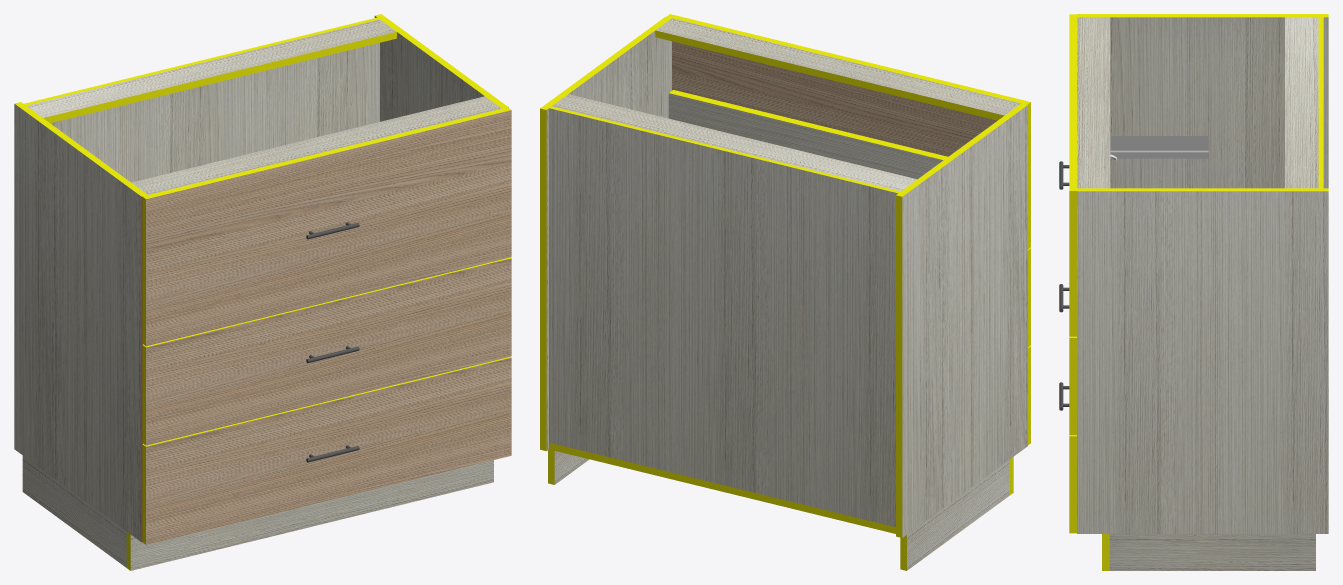
Rendered from GABINETE.obj.
The picture shows the model from 3 angles, left to right: view 1: azimuth 30°, elevation 25°; view 2: azimuth 150°, elevation 25°; view 3: azimuth 270°, elevation 25°; orthographic projection.
Parts seen in each view (by area): view 1: Mesh27 Panel_102_1 PanelZX_49_1 BTapaCaj_Manijas___CA01_1_14_1 c, Mesh1 LATERAL_IZQUIERDA_7_1 P5_7_1 Estructura_7_1 Gabinete_7_1 M, Mesh67 Panel_114_1 PanelZX_55_1 BTapaCaj_Manijas___CA01_1_16_1 c, Mesh47 Panel_108_1 PanelZX_52_1 BTapaCaj_Manijas___CA01_1_15_1 c, Mesh6 RESPALDO_7_1 P4_7_1 Estructura_7_1 Gabinete_7_1 Model, Mesh7 POLLO_FRONTAL_7_1 P9_7_1 Zoclo_7_1 Gabinete_7_1 Model, Mesh5 REFUERZO_TRASERO_5_1 P1_4_1 Estructura_7_1 Gabinete_7_1 Mo, Mesh4 REFUERZO_DELANTERO_4_1 P2_4_1 Estructura_7_1 Gabinete_7_1 , Mesh2 LATERAL_DERECHA_7_1 P6_7_1 Estructura_7_1 Gabinete_7_1 Mod, Mesh8 POLLO_IZQUIERDA_7_1 P8_7_1 Zoclo_7_1 Gabinete_7_1 Model; view 2: Mesh6 RESPALDO_7_1 P4_7_1 Estructura_7_1 Gabinete_7_1 Model, Mesh1 LATERAL_IZQUIERDA_7_1 P5_7_1 Estructura_7_1 Gabinete_7_1 M, Mesh27 Panel_102_1 PanelZX_49_1 BTapaCaj_Manijas___CA01_1_14_1 c, Mesh2 LATERAL_DERECHA_7_1 P6_7_1 Estructura_7_1 Gabinete_7_1 Mod, Mesh4 REFUERZO_DELANTERO_4_1 P2_4_1 Estructura_7_1 Gabinete_7_1 , Mesh28 Panel_105_1 PanelZX_51_1 complete_9_1 COA03___3_CAJONES__, Mesh5 REFUERZO_TRASERO_5_1 P1_4_1 Estructura_7_1 Gabinete_7_1 Mo, Mesh8 POLLO_IZQUIERDA_7_1 P8_7_1 Zoclo_7_1 Gabinete_7_1 Model, Mesh3 BASE_9_1 P3_9_1 Estructura_7_1 Gabinete_7_1 Model, Mesh9 POLLO_DERECHO_7_1 P7_7_1 Zoclo_7_1 Gabinete_7_1 Model; view 3: Mesh2 LATERAL_DERECHA_7_1 P6_7_1 Estructura_7_1 Gabinete_7_1 Mod, Mesh1 LATERAL_IZQUIERDA_7_1 P5_7_1 Estructura_7_1 Gabinete_7_1 M, Mesh9 POLLO_DERECHO_7_1 P7_7_1 Zoclo_7_1 Gabinete_7_1 Model, Mesh5 REFUERZO_TRASERO_5_1 P1_4_1 Estructura_7_1 Gabinete_7_1 Mo, Mesh4 REFUERZO_DELANTERO_4_1 P2_4_1 Estructura_7_1 Gabinete_7_1 , Mesh27 Panel_102_1 PanelZX_49_1 BTapaCaj_Manijas___CA01_1_14_1 c, Mesh17 PartFija1 Corr_OcultaIzq_14_1 Acc_CorrederaOculta___CD001, Mesh6 RESPALDO_7_1 P4_7_1 Estructura_7_1 Gabinete_7_1 Model, Mesh47 Panel_108_1 PanelZX_52_1 BTapaCaj_Manijas___CA01_1_15_1 c, Mesh67 Panel_114_1 PanelZX_55_1 BTapaCaj_Manijas___CA01_1_16_1 c.
Boxes of the visible parts, bbox=[...] form: Mesh27 Panel_102_1 PanelZX_49_1 BTapaCaj_Manijas___CA01_1_14_1 c: bbox=[142, 107, 511, 346]; Mesh1 LATERAL_IZQUIERDA_7_1 P5_7_1 Estructura_7_1 Gabinete_7_1 M: bbox=[14, 102, 147, 542]; Mesh67 Panel_114_1 PanelZX_55_1 BTapaCaj_Manijas___CA01_1_16_1 c: bbox=[142, 356, 511, 544]; Mesh47 Panel_108_1 PanelZX_52_1 BTapaCaj_Manijas___CA01_1_15_1 c: bbox=[142, 257, 511, 445]; Mesh6 RESPALDO_7_1 P4_7_1 Estructura_7_1 Gabinete_7_1 Model: bbox=[23, 17, 381, 182]; Mesh7 POLLO_FRONTAL_7_1 P9_7_1 Zoclo_7_1 Gabinete_7_1 Model: bbox=[126, 460, 493, 570]; Mesh5 REFUERZO_TRASERO_5_1 P1_4_1 Estructura_7_1 Gabinete_7_1 Mo: bbox=[26, 19, 396, 122]; Mesh4 REFUERZO_DELANTERO_4_1 P2_4_1 Estructura_7_1 Gabinete_7_1 : bbox=[131, 96, 501, 194]; Mesh2 LATERAL_DERECHA_7_1 P6_7_1 Estructura_7_1 Gabinete_7_1 Mod: bbox=[374, 14, 508, 121]; Mesh8 POLLO_IZQUIERDA_7_1 P8_7_1 Zoclo_7_1 Gabinete_7_1 Model: bbox=[22, 455, 126, 567]; Mesh6 RESPALDO_7_1 P4_7_1 Estructura_7_1 Gabinete_7_1 Model: bbox=[547, 106, 902, 526]; Mesh1 LATERAL_IZQUIERDA_7_1 P5_7_1 Estructura_7_1 Gabinete_7_1 M: bbox=[896, 103, 1027, 537]; Mesh27 Panel_102_1 PanelZX_49_1 BTapaCaj_Manijas___CA01_1_14_1 c: bbox=[666, 14, 1030, 248]; Mesh2 LATERAL_DERECHA_7_1 P6_7_1 Estructura_7_1 Gabinete_7_1 Mod: bbox=[540, 16, 671, 451]; Mesh4 REFUERZO_DELANTERO_4_1 P2_4_1 Estructura_7_1 Gabinete_7_1 : bbox=[655, 18, 1020, 120]; Mesh28 Panel_105_1 PanelZX_51_1 complete_9_1 COA03___3_CAJONES__: bbox=[668, 90, 947, 179]; Mesh5 REFUERZO_TRASERO_5_1 P1_4_1 Estructura_7_1 Gabinete_7_1 Mo: bbox=[552, 94, 916, 191]; Mesh8 POLLO_IZQUIERDA_7_1 P8_7_1 Zoclo_7_1 Gabinete_7_1 Model: bbox=[900, 460, 1009, 570]; Mesh3 BASE_9_1 P3_9_1 Estructura_7_1 Gabinete_7_1 Model: bbox=[549, 442, 895, 533]; Mesh9 POLLO_DERECHO_7_1 P7_7_1 Zoclo_7_1 Gabinete_7_1 Model: bbox=[548, 449, 589, 484]; Mesh2 LATERAL_DERECHA_7_1 P6_7_1 Estructura_7_1 Gabinete_7_1 Mod: bbox=[1077, 188, 1328, 533]; Mesh1 LATERAL_IZQUIERDA_7_1 P5_7_1 Estructura_7_1 Gabinete_7_1 M: bbox=[1077, 14, 1328, 188]; Mesh9 POLLO_DERECHO_7_1 P7_7_1 Zoclo_7_1 Gabinete_7_1 Model: bbox=[1109, 534, 1315, 570]; Mesh5 REFUERZO_TRASERO_5_1 P1_4_1 Estructura_7_1 Gabinete_7_1 Mo: bbox=[1285, 17, 1318, 188]; Mesh4 REFUERZO_DELANTERO_4_1 P2_4_1 Estructura_7_1 Gabinete_7_1 : bbox=[1077, 17, 1110, 188]; Mesh27 Panel_102_1 PanelZX_49_1 BTapaCaj_Manijas___CA01_1_14_1 c: bbox=[1069, 14, 1076, 336]; Mesh17 PartFija1 Corr_OcultaIzq_14_1 Acc_CorrederaOculta___CD001: bbox=[1110, 136, 1208, 158]; Mesh6 RESPALDO_7_1 P4_7_1 Estructura_7_1 Gabinete_7_1 Model: bbox=[1318, 16, 1323, 189]; Mesh47 Panel_108_1 PanelZX_52_1 BTapaCaj_Manijas___CA01_1_15_1 c: bbox=[1069, 336, 1076, 434]; Mesh67 Panel_114_1 PanelZX_55_1 BTapaCaj_Manijas___CA01_1_16_1 c: bbox=[1069, 435, 1076, 533].
Bounding box in the file's own units: 1000 × 1000 × 642.
7 materials, 2 textured.
